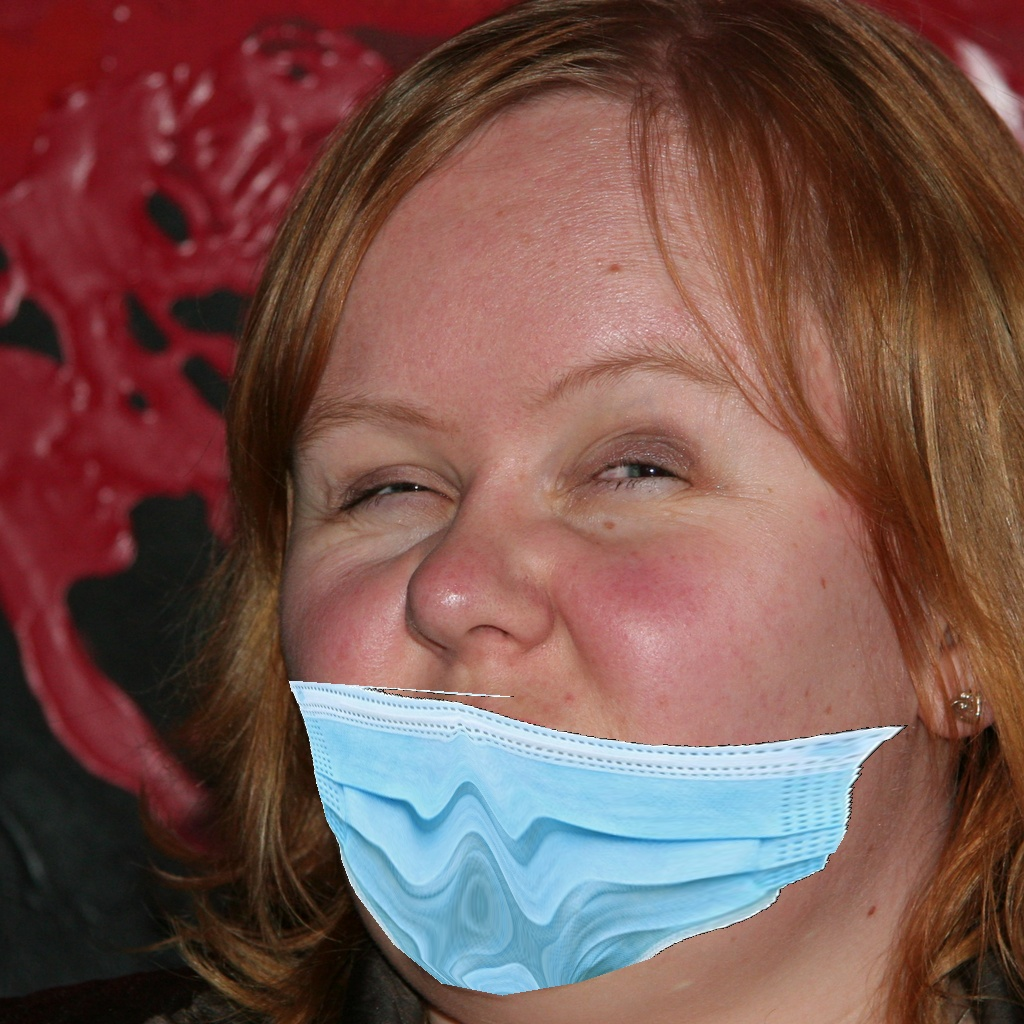mascarilla_mal_puesta: (254, 400, 912, 1024)
